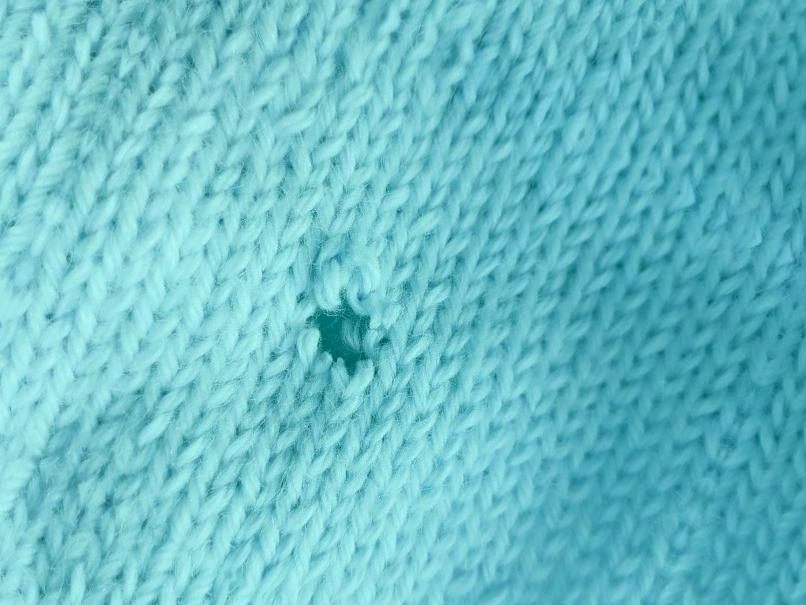hole: (297, 287, 399, 380)
